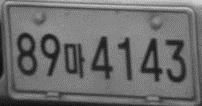1: (117, 36, 133, 81)
3: (165, 38, 187, 83)
4: (137, 36, 162, 83), (90, 34, 113, 80)
8: (16, 31, 37, 76)
9: (38, 33, 61, 77)
마: (63, 42, 86, 79)
